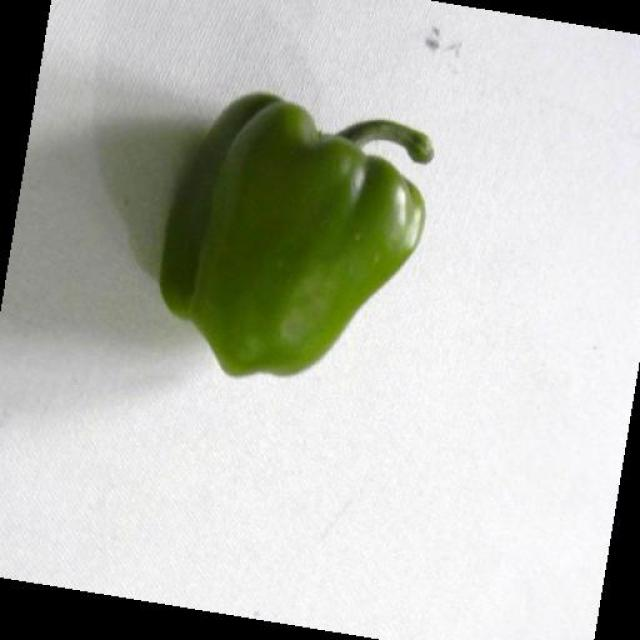Fresh_Capsicum: (168, 75, 435, 391)
